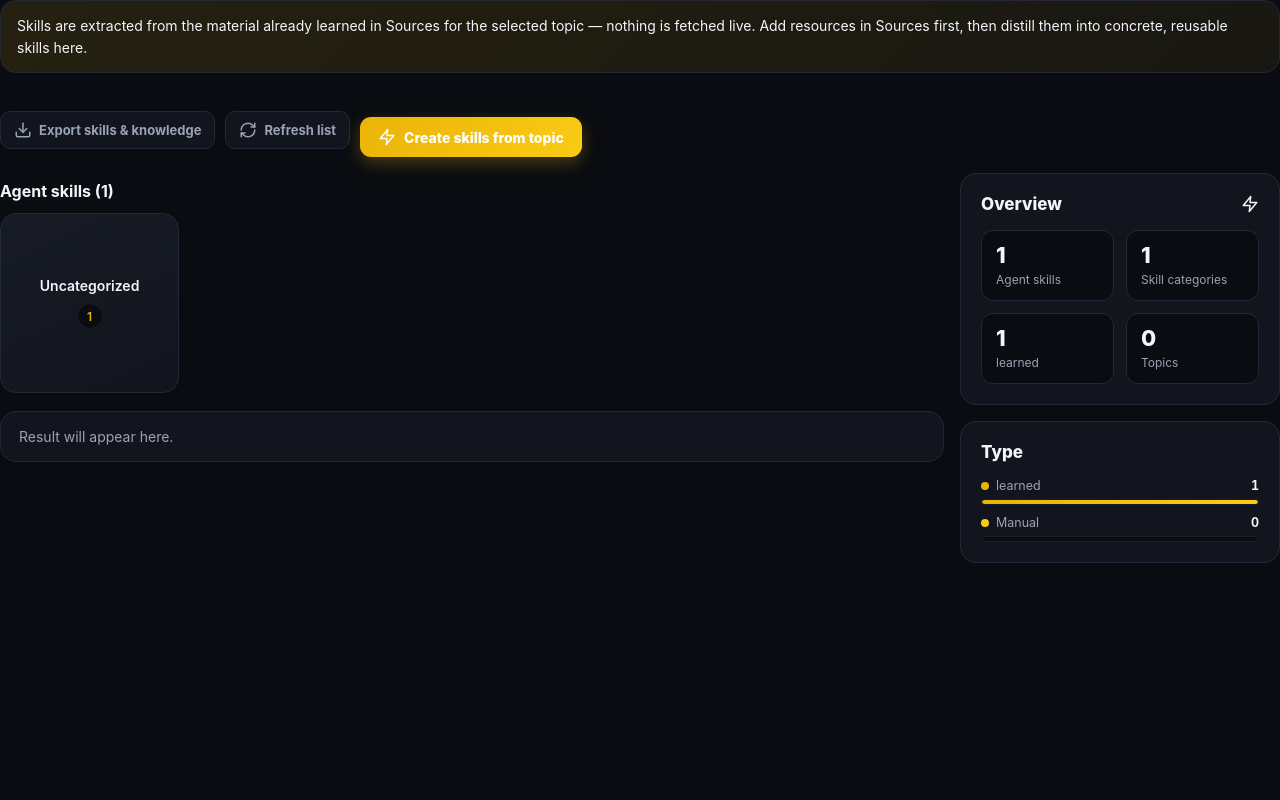
Test: SkillsPanel › enables export and lists skills (via category tile + modal) once data is present
The image size is (1280, 800).
What coordinates should you click on to do the following:
click the button with aria-label "(1)"
I would click on:
 (90, 303)
Its box is [0,213,179,393].
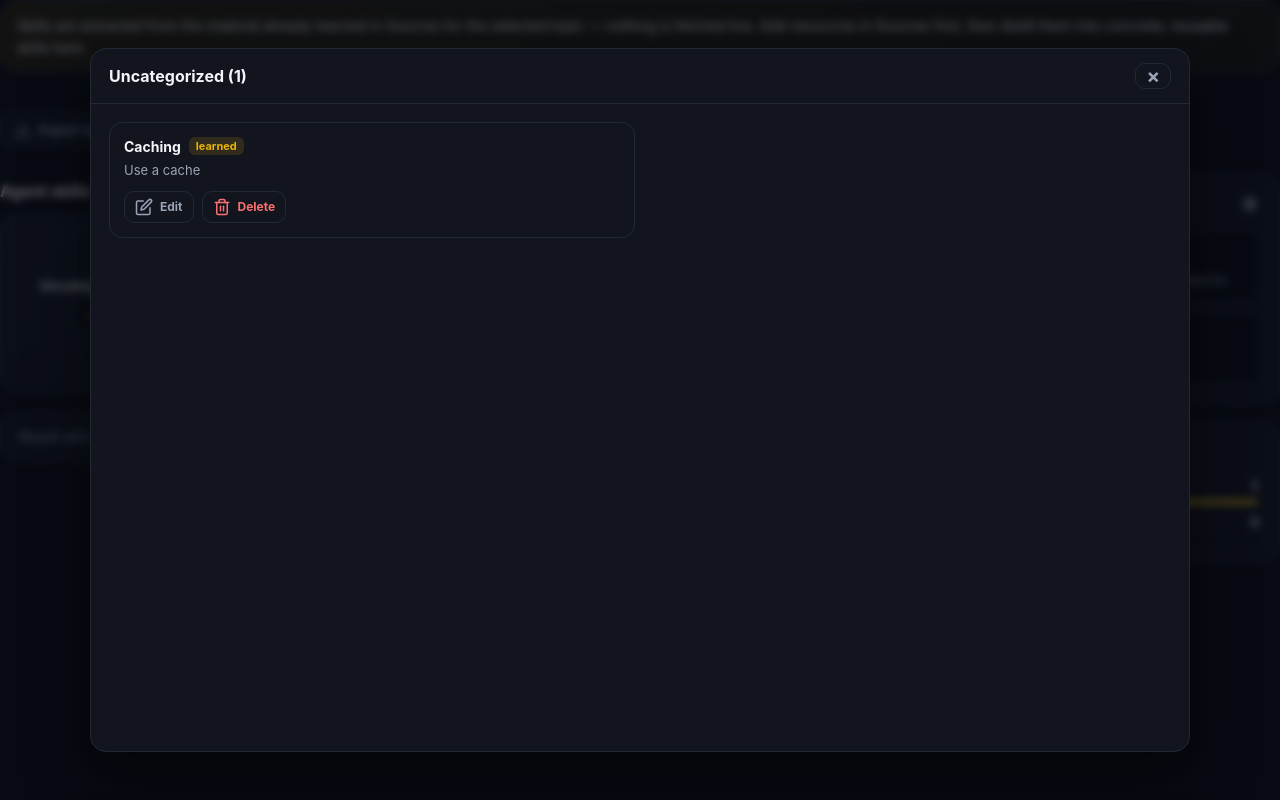
Expected: the button "Export skills & knowledge" is enabled, [0,111,216,149]
Result: the text "Caching" is shown at [124,138,181,154]
